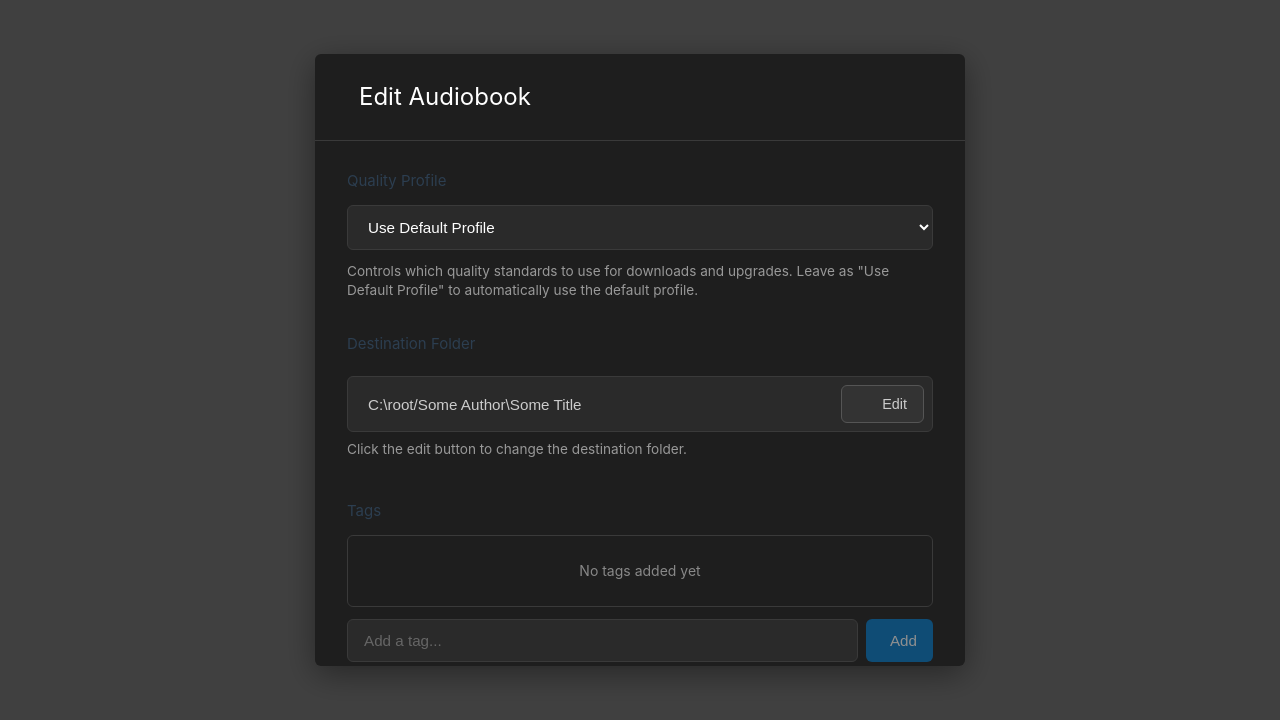
Scenario: EditAudiobookModal relative path calculation › derives relative path from stored basePath when root configured
(page scrolled)
What coordinates should you click on to do the following:
click the button with class "btn-edit-destination"
I would click on:
 (883, 404)
Its box is x1=841 y1=386 x2=924 y2=423.
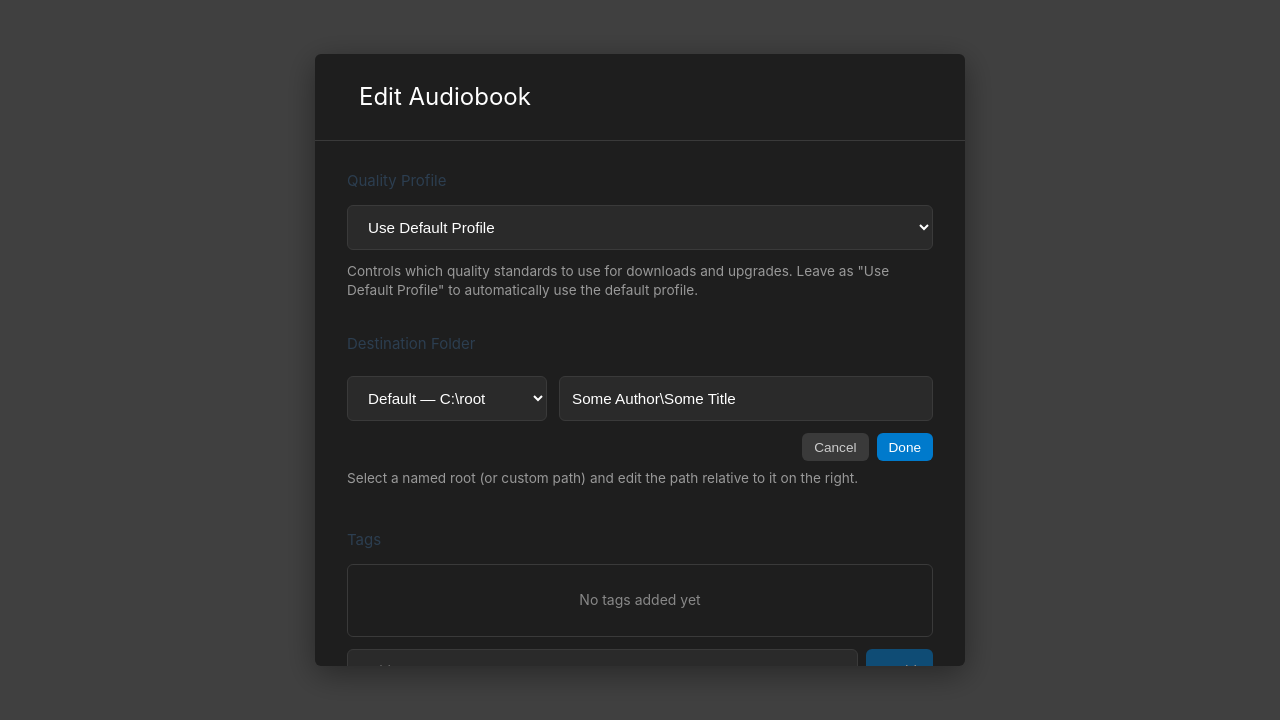
Now the field with class "relative-input" holds "Some Author\\Some Title", box x1=559 y1=376 x2=933 y2=422
